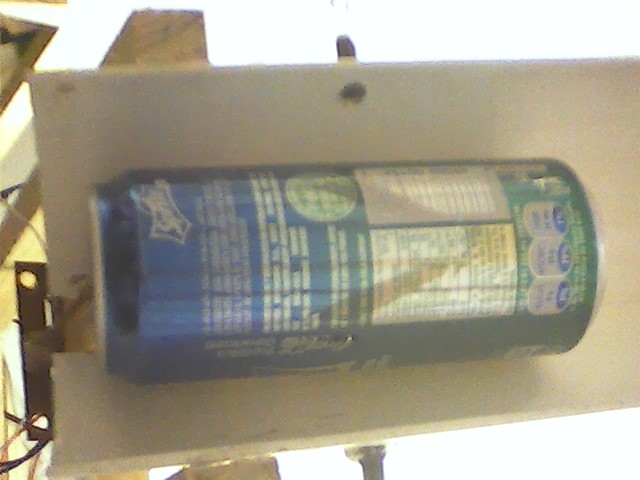lata: (81, 149, 614, 401)
